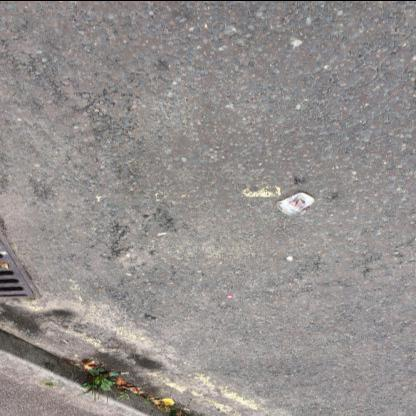Cigarette: (63, 340, 68, 344), (121, 370, 129, 372)
Cup: (276, 192, 314, 216)
Other plastic: (226, 294, 232, 298)
